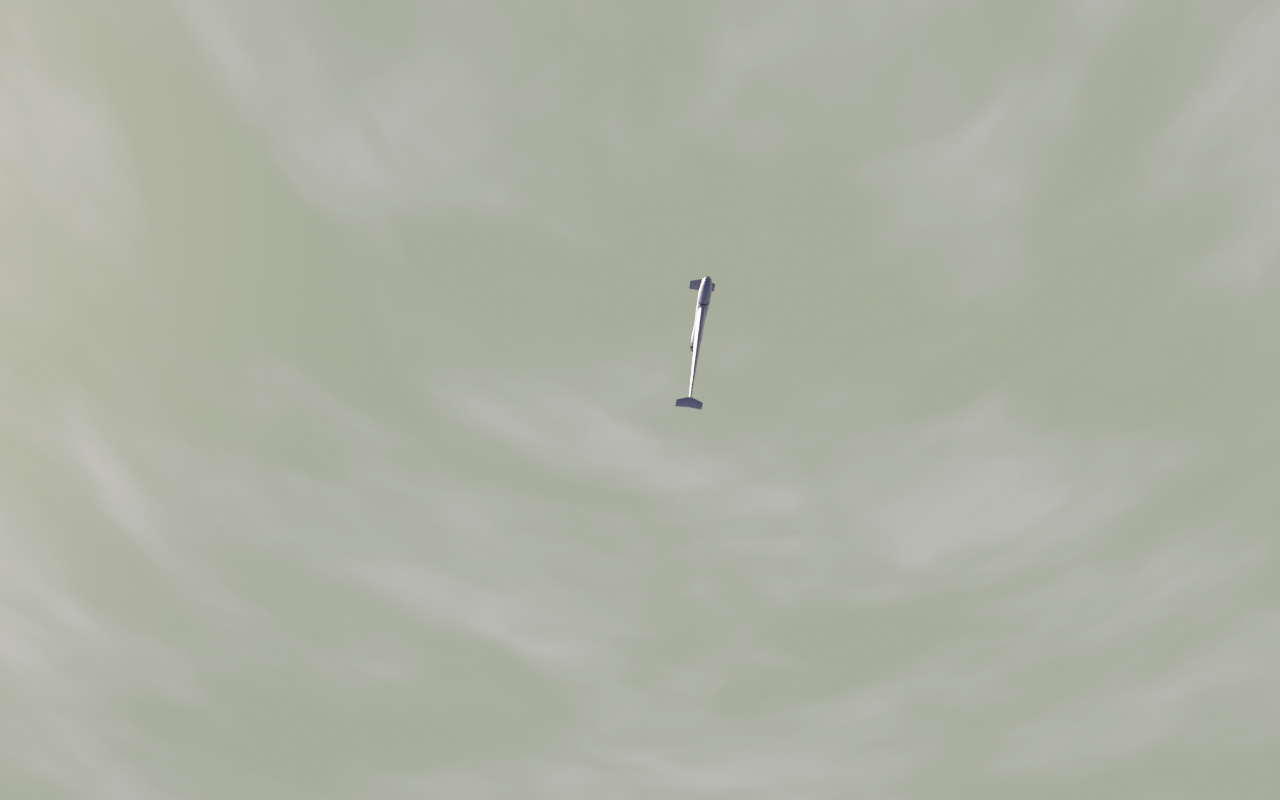shahed: (675, 276, 717, 411)
